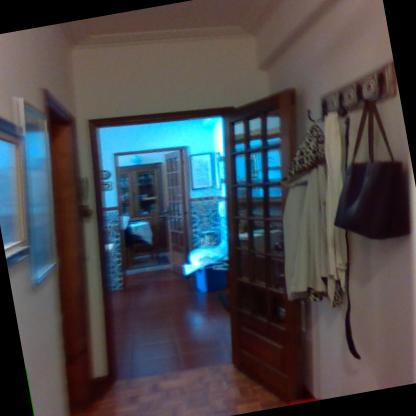open: (56, 66, 361, 415)
